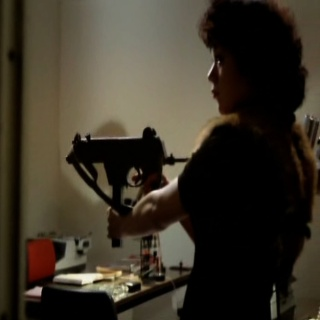rifle: (66, 126, 196, 249)
